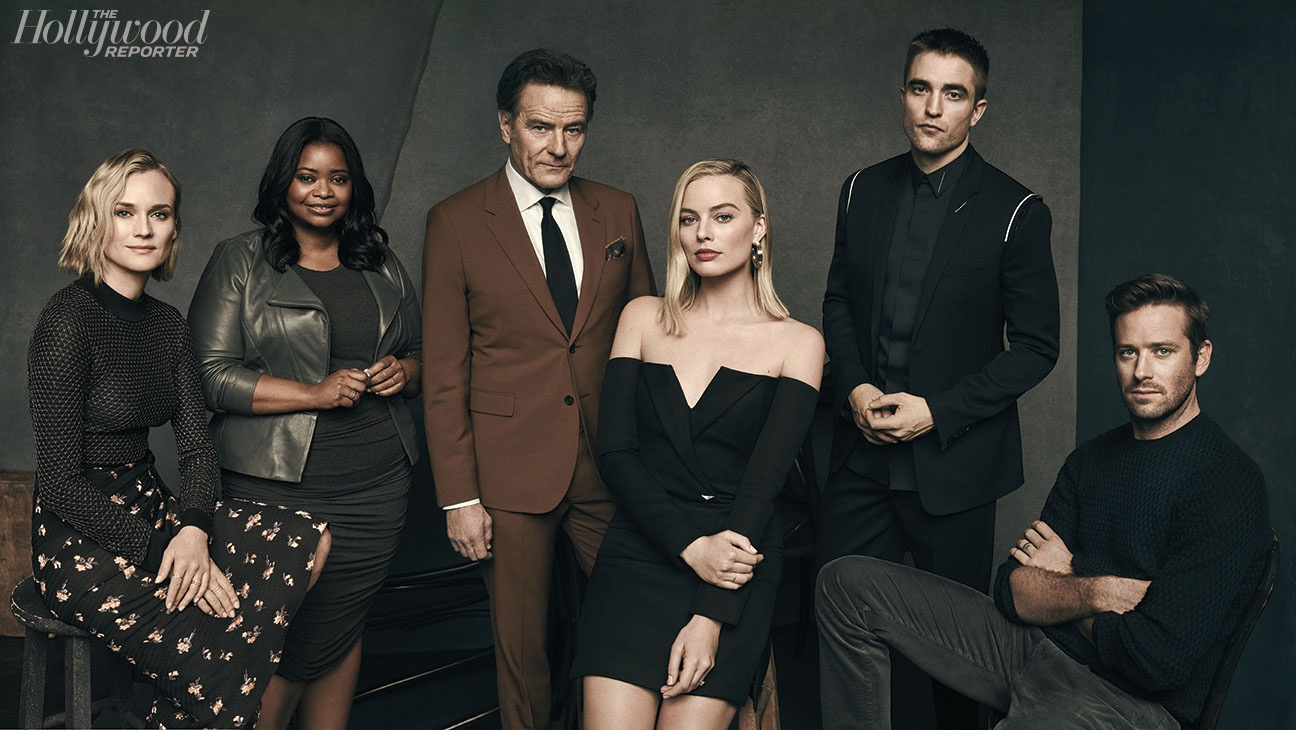bad: (1101, 325, 1191, 415), (892, 66, 982, 156), (663, 186, 753, 275), (514, 96, 603, 186), (104, 196, 179, 271), (287, 155, 361, 229)
